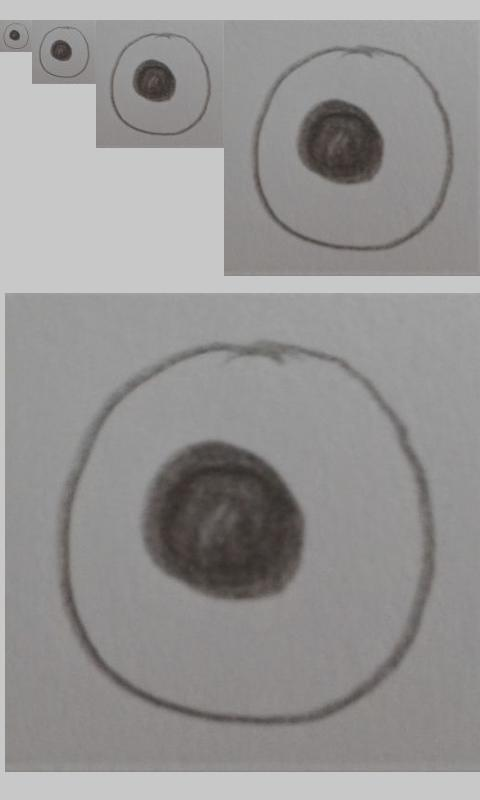radio_button: (57, 340, 436, 729), (252, 44, 457, 253), (109, 31, 212, 137), (38, 25, 90, 79), (2, 22, 30, 50)
